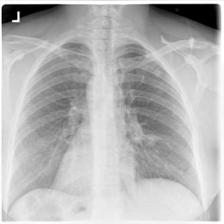tuberculosis: (7, 35, 208, 224)
